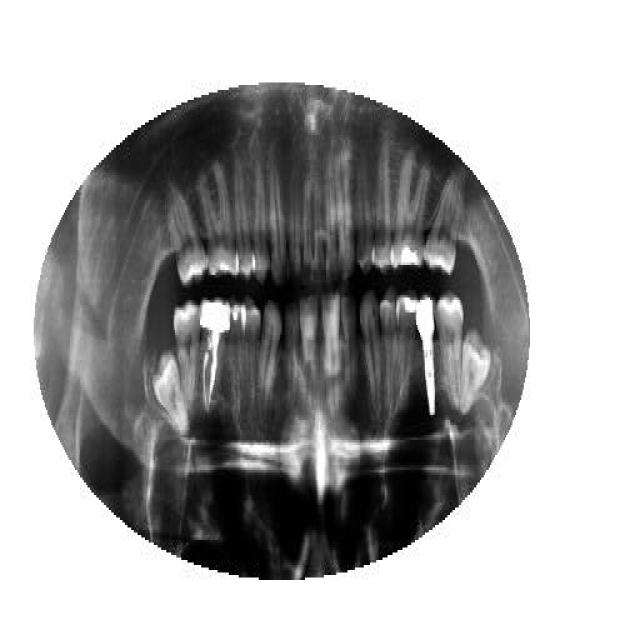Fillings: (390, 155, 430, 270)
Implant: (199, 298, 230, 418), (415, 298, 437, 412)
